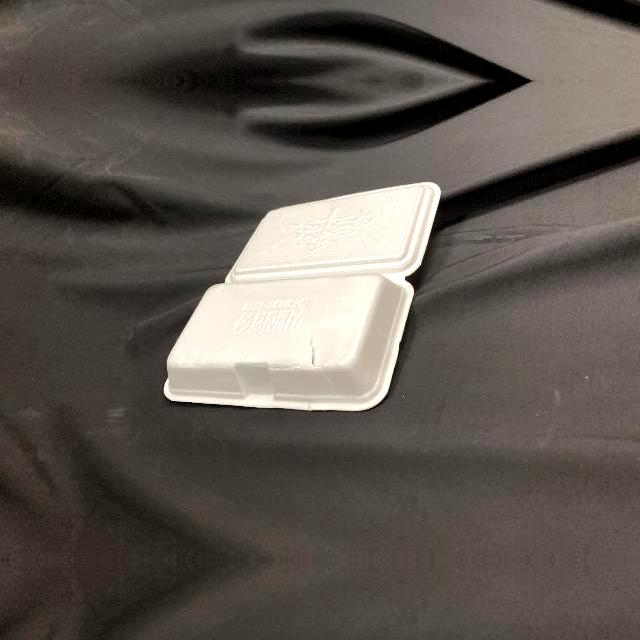Styrofoam: (162, 180, 442, 412), (164, 181, 440, 411)
